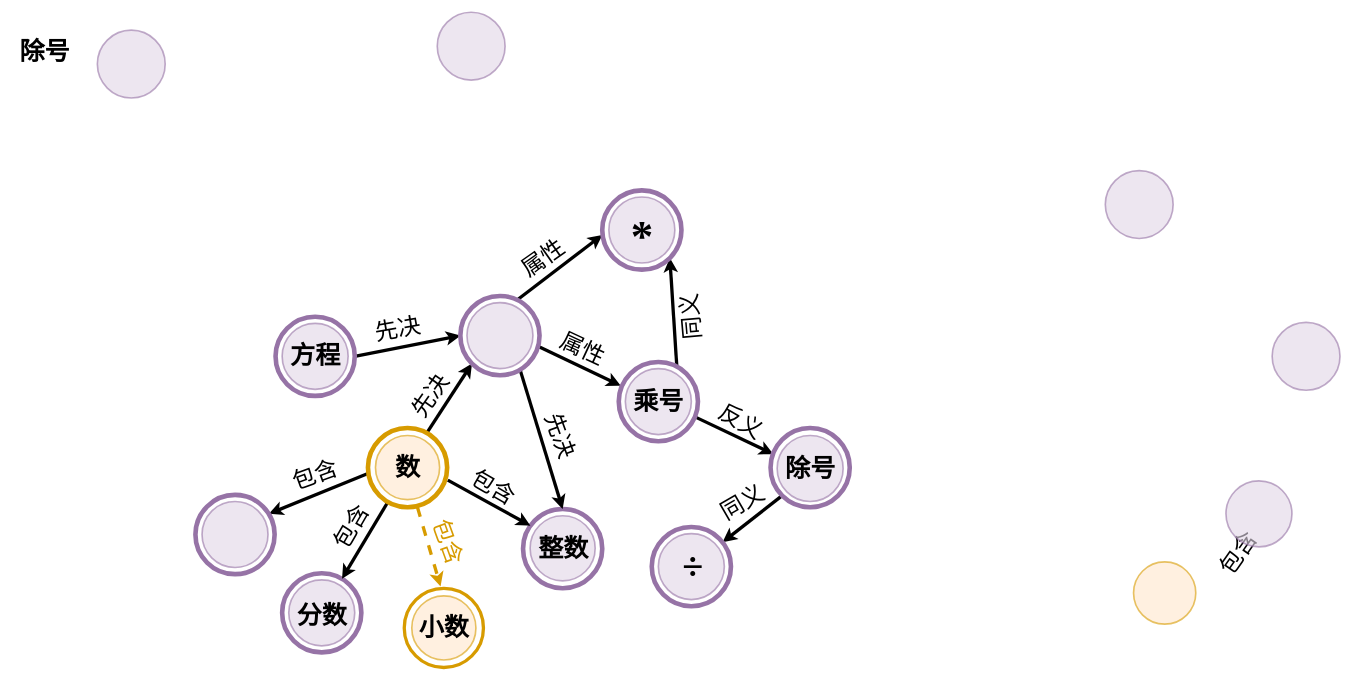
The diagram is 1352 pixels wide and 680 high, and some of its shapes have lost their labels. Here are the shapes that lost their labels. From the top down, the centre of each, then its label:
[499,335]: 乘法
[235,534]: 有理数
